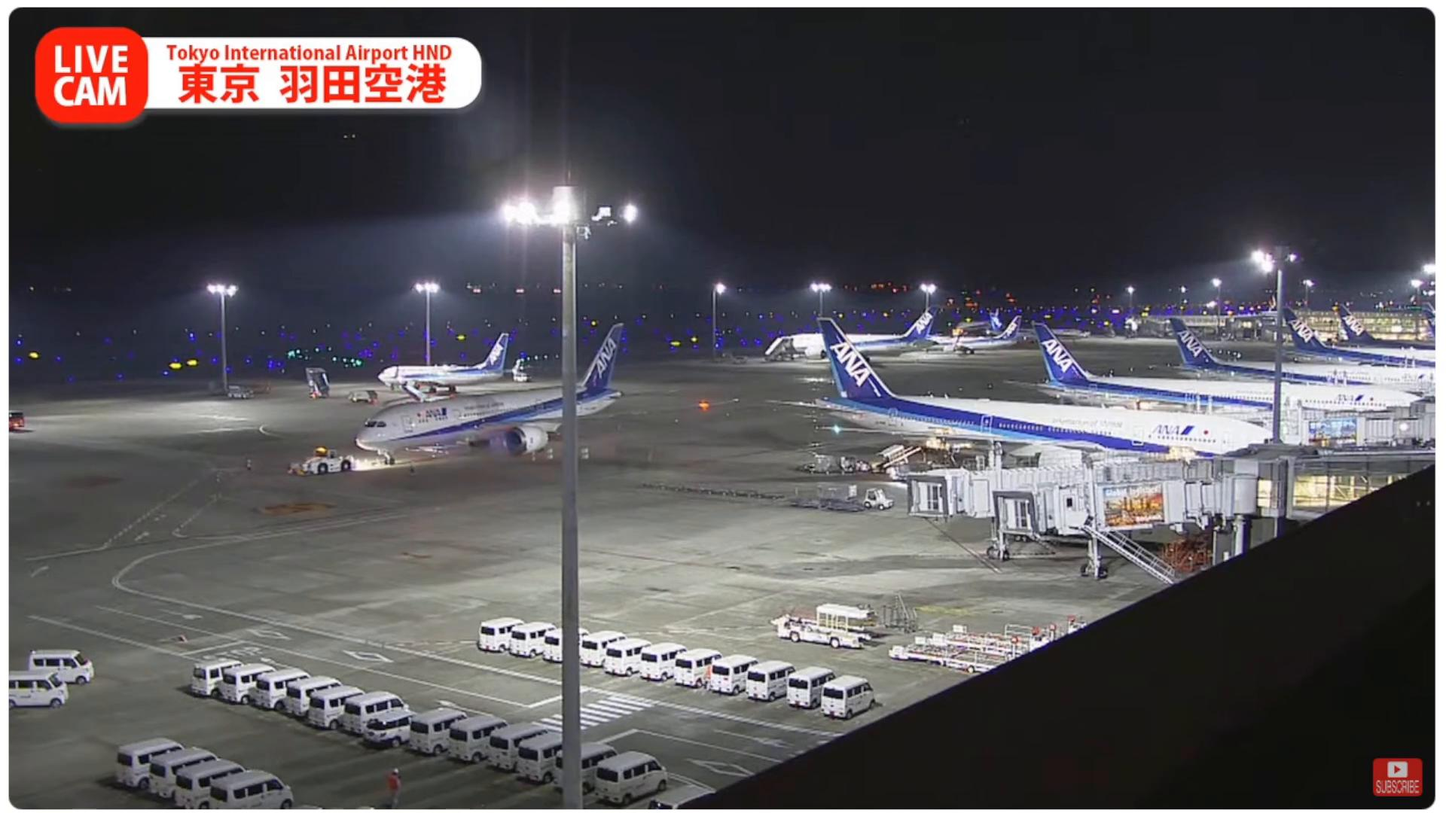APS: (292, 447, 352, 476)
Aerobridge: (905, 456, 1224, 518), (989, 475, 1256, 533)
Airplane: (356, 323, 625, 462)
JCPL: (912, 624, 1048, 657), (889, 640, 1014, 673), (747, 584, 750, 584)
Skyloader: (771, 601, 875, 650)
Window: (1290, 455, 1437, 521)
